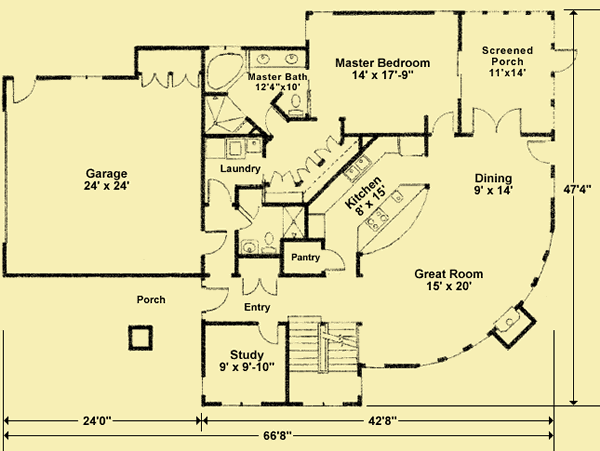kitchen has a twin sink with cooking range and kitchen counter: (305, 153, 438, 273)
laundry has a washer and dryer: (204, 134, 267, 189)
master bathroom has his and her sinks with bathtub and shower space: (199, 46, 311, 133)
open area has staircase: (286, 305, 396, 408)
small bathroom has a small and large sink: (237, 205, 285, 258)
